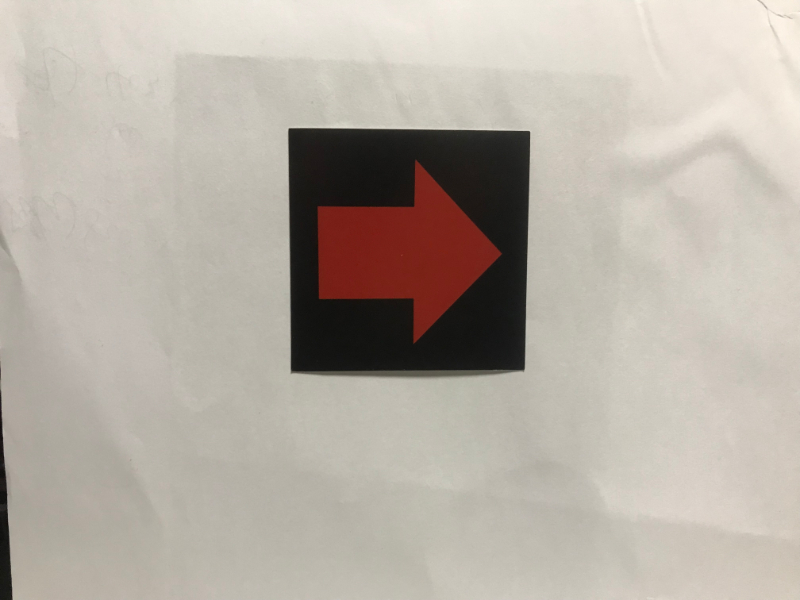DA-2: (298, 136, 523, 366)
